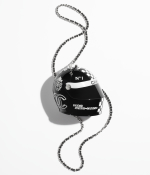channel: (46, 61, 114, 128), (49, 91, 70, 112)
